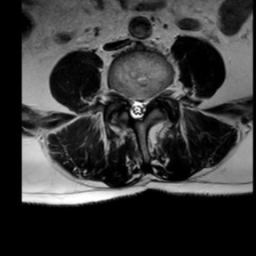CCS_normal: (133, 90, 140, 126)
LFS_stenosis: (148, 84, 156, 110)
LLS_normal: (140, 90, 148, 121)
RFS_stenosis: (119, 83, 127, 108)
RLS_normal: (127, 88, 133, 121)
